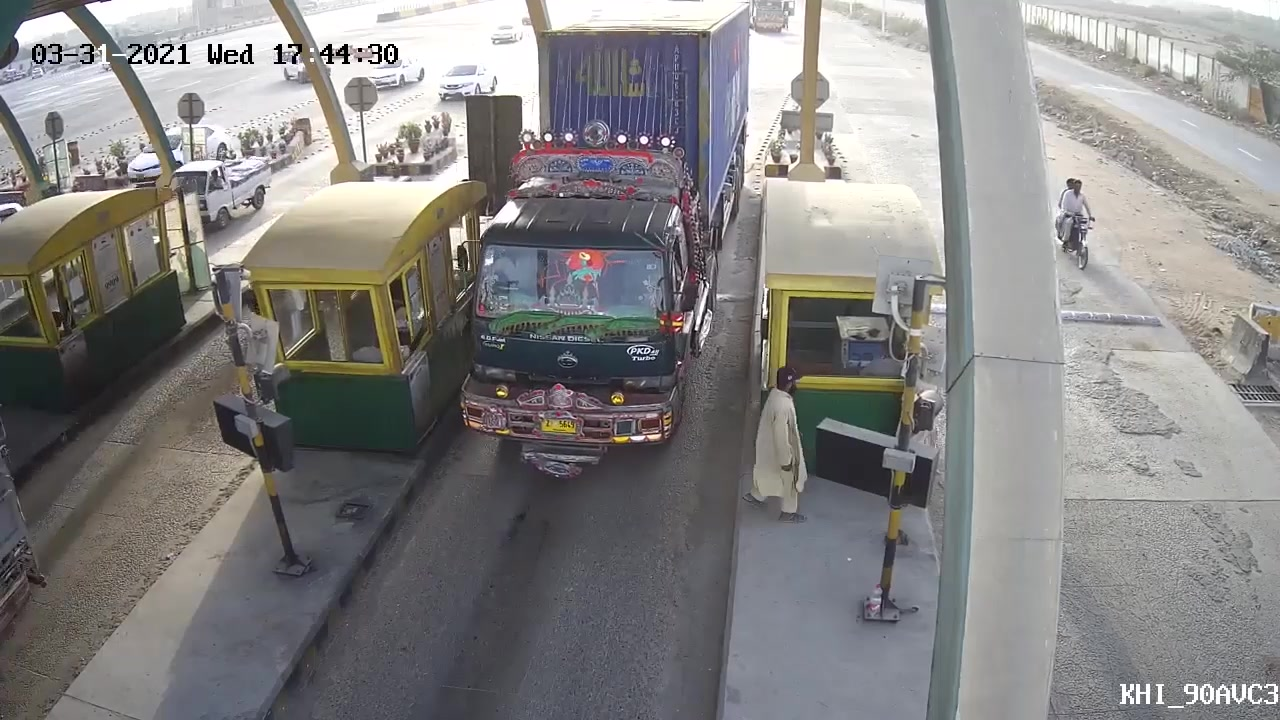F6: (456, 1, 752, 483)
